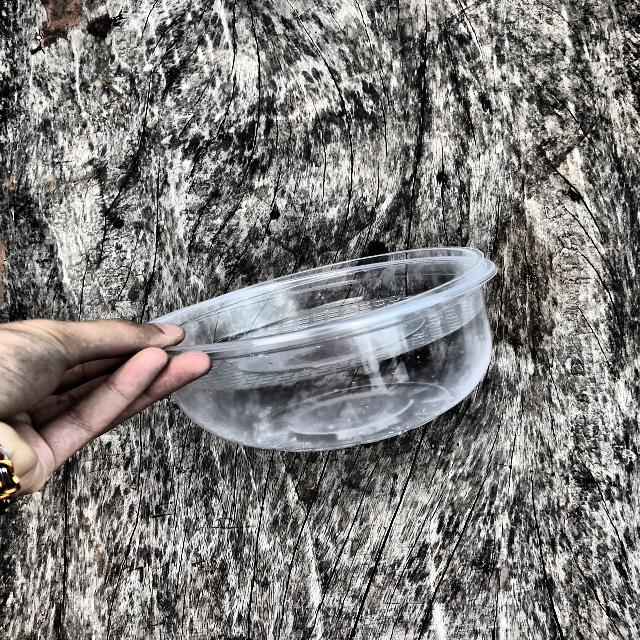plastic container: (86, 230, 520, 478)
